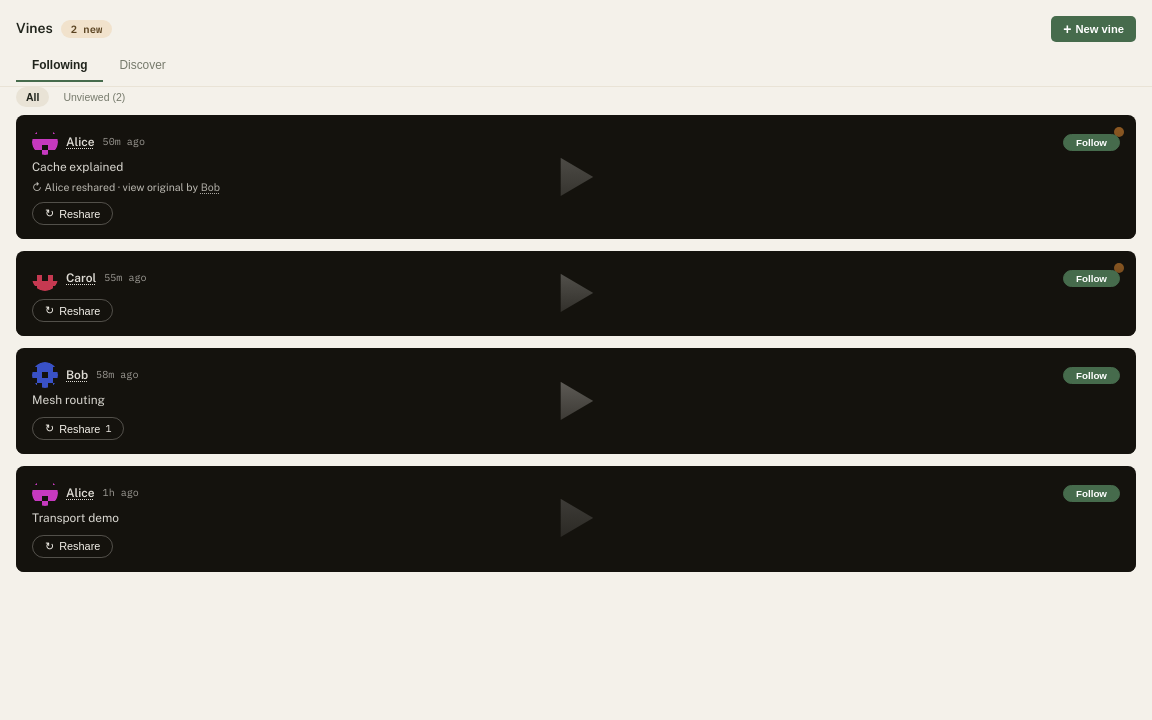
Scenario: VineFeed Integration › filters to unviewed vines when Unviewed tab is clicked
Click the button "Unviewed (2)".
click(94, 97)  # box top-left (53, 87), bottom-right (135, 107)
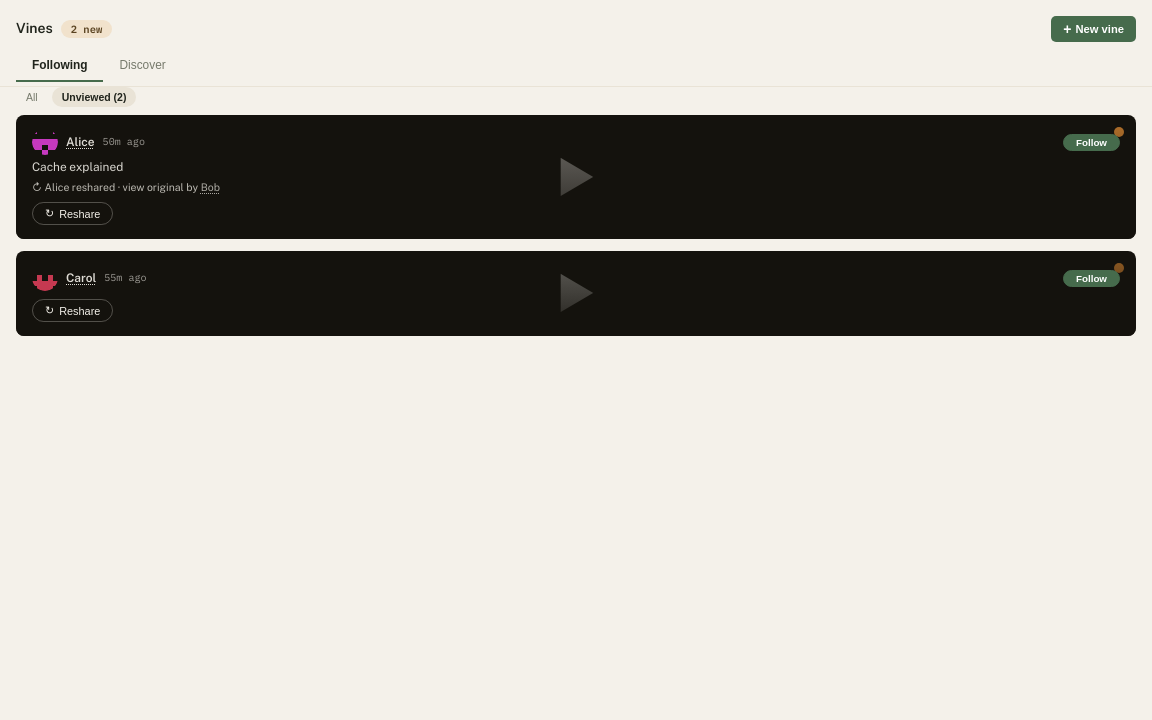
Check: the text "Cache explained" is shown, box top-left (32, 160), bottom-right (123, 174)
Check: the button "Transport demo" is gone
Check: the button "Mesh routing" is gone
